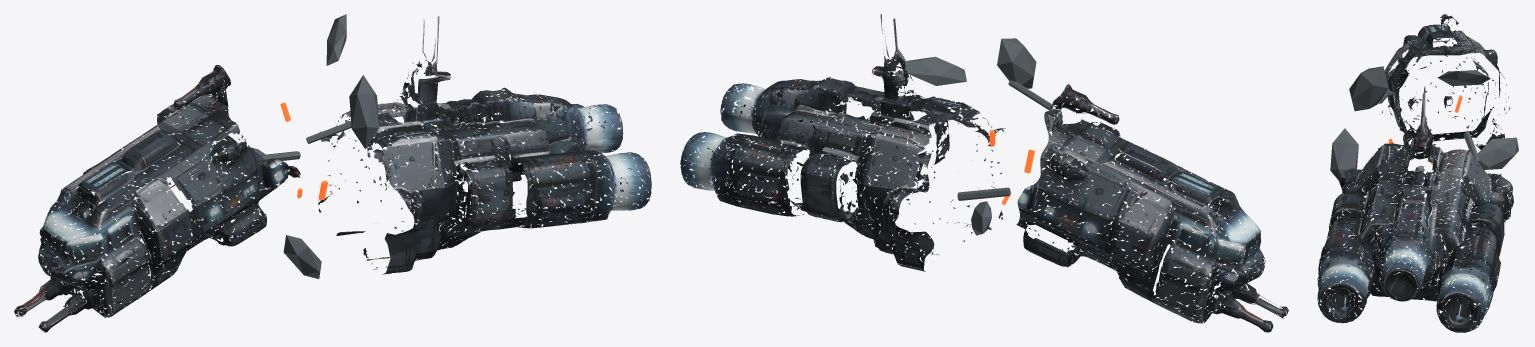
File: concord-frigate-wreck.glb
3 renders of one model, left to right at view 1: azimuth 30°, elevation 25°; view 2: azimuth 150°, elevation 25°; view 3: azimuth 270°, elevation 25°, orthographic. The views are drawn at different scales.
Visible parts, largest first — view 1: Frigate wreck forward section, Frigate wreck engine section, Detached armor shard 2, Detached armor shard 4, Detached armor shard 3; view 2: Frigate wreck engine section, Frigate wreck forward section, Detached armor shard 2, Detached armor shard 3, Detached armor shard 1, Frigate torn frame 1; view 3: Frigate wreck forward section, Frigate wreck engine section, Detached armor shard 2, Detached armor shard 4, Detached armor shard 1, Detached armor shard 3, Frigate torn frame 1.
Part boxes in pixels (bbox=[...]): Frigate wreck forward section: bbox=[318, 16, 651, 274]; Frigate wreck engine section: bbox=[14, 65, 302, 332]; Detached armor shard 2: bbox=[349, 75, 379, 148]; Detached armor shard 4: bbox=[283, 235, 321, 278]; Detached armor shard 3: bbox=[326, 14, 346, 65]; Frigate wreck engine section: bbox=[1016, 84, 1288, 332]; Frigate wreck forward section: bbox=[680, 14, 1005, 271]; Detached armor shard 2: bbox=[997, 38, 1036, 88]; Detached armor shard 3: bbox=[904, 56, 966, 85]; Detached armor shard 1: bbox=[971, 201, 991, 235]; Frigate torn frame 1: bbox=[957, 187, 1010, 200]; Frigate wreck forward section: bbox=[1317, 86, 1513, 332]; Frigate wreck engine section: bbox=[1380, 14, 1511, 159]; Detached armor shard 2: bbox=[1349, 66, 1388, 111]; Detached armor shard 4: bbox=[1330, 128, 1358, 185]; Detached armor shard 1: bbox=[1477, 137, 1518, 169]; Detached armor shard 3: bbox=[1437, 70, 1490, 85]; Frigate torn frame 1: bbox=[1463, 132, 1481, 164].
Bounding box in the file's own units: 2.14 × 0.7819 × 0.748.
3 materials, 1 textured.
